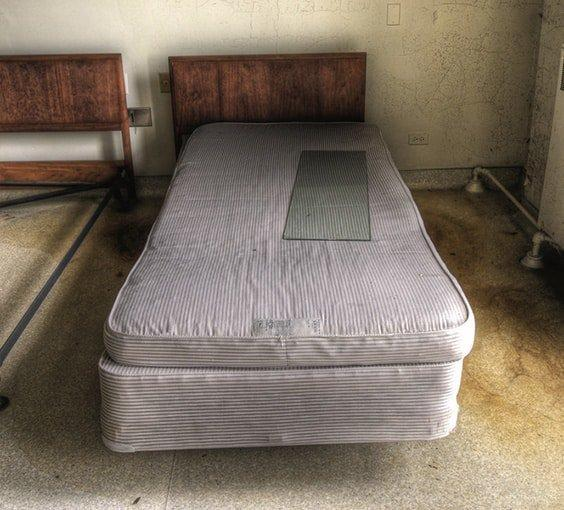Bed-Mattress: (106, 123, 475, 368)
